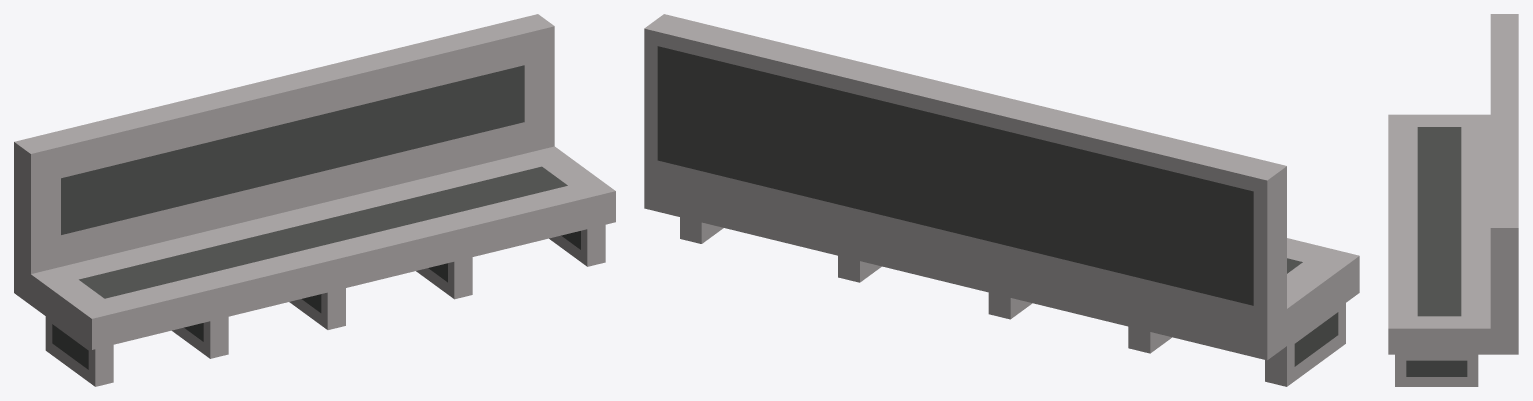
Rendered from bench1.FBX.
3 views of the same model, side by side, from view 1: azimuth 30°, elevation 25°; view 2: azimuth 150°, elevation 25°; view 3: azimuth 270°, elevation 25° (orthographic). The views are drawn at different scales.
Parts seen in each view (by area): view 1: bench1; view 2: bench1; view 3: bench1.
Part boxes in pixels (x1,y1,x2,y2): bench1: (14, 14, 615, 386); bench1: (644, 14, 1359, 386); bench1: (1388, 14, 1518, 386).
Bounding box in the file's own units: 4.98 × 1.75 × 1.28.
